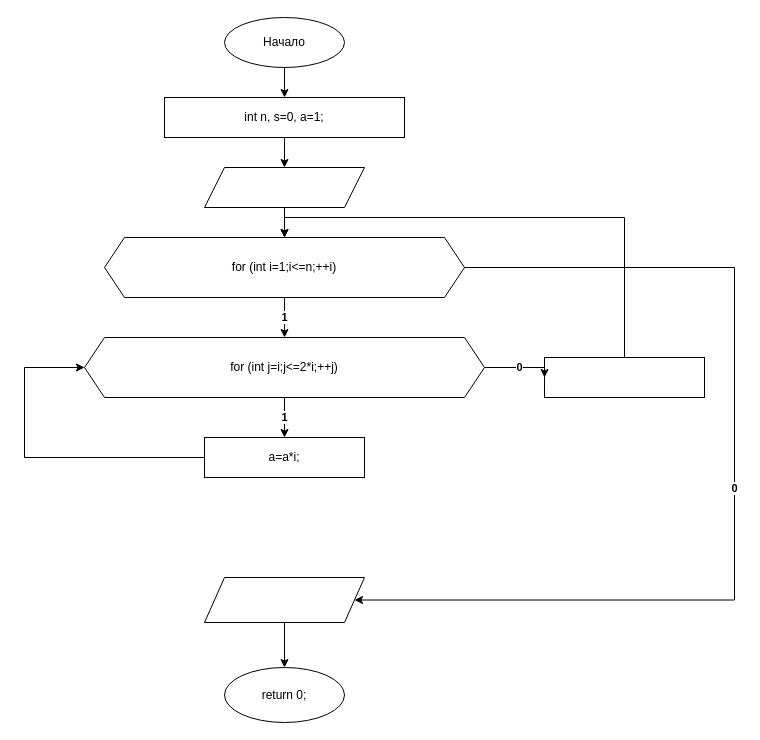
The diagram is 760 pixels wide and 740 high, and some of its shapes have lost their labels. Here are the shapes that lost their labels. From the top down, the centre of each, then its label:
(x=284, y=187): cin>>n;
(x=624, y=377): s+=a;
(x=284, y=599): cout<<s;
